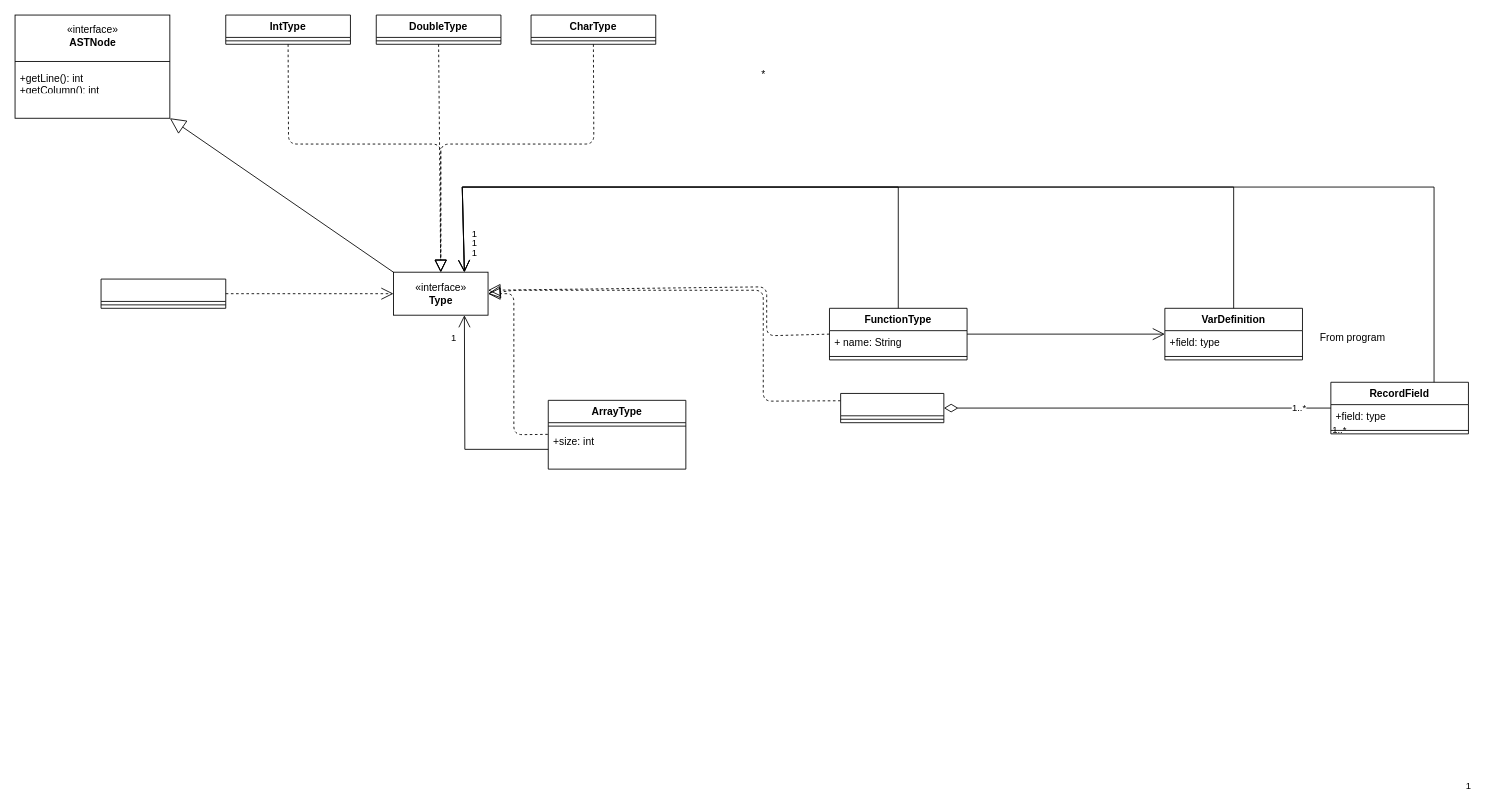
This 1486x806 diagram has some shape labels left out. Each missing label, with the centre of its shape:
"RecordType" goes at pixel 892 408.
"VoidType" goes at pixel 163 293.
